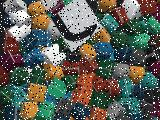Left: (51, 0, 103, 52)
